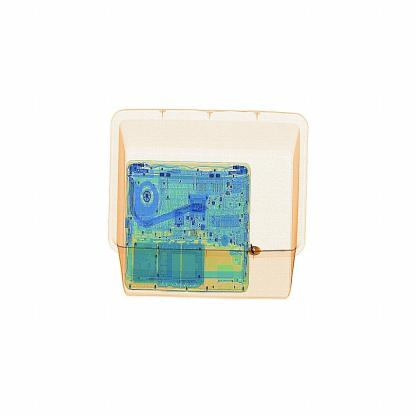wrench: (242, 228, 272, 261)
